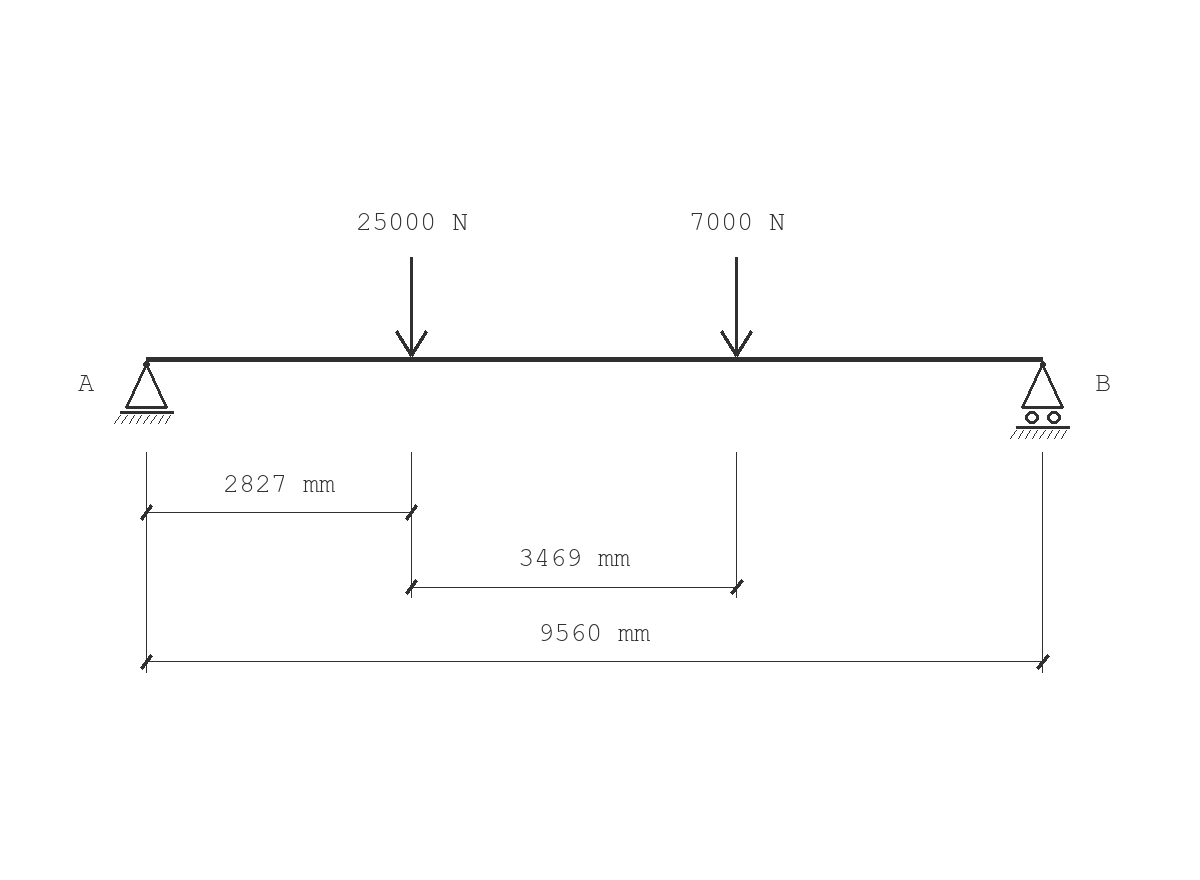pin_support: (114, 361, 174, 424)
point_load: (395, 257, 428, 357), (720, 257, 753, 357)
roller_support: (1010, 361, 1070, 439)
